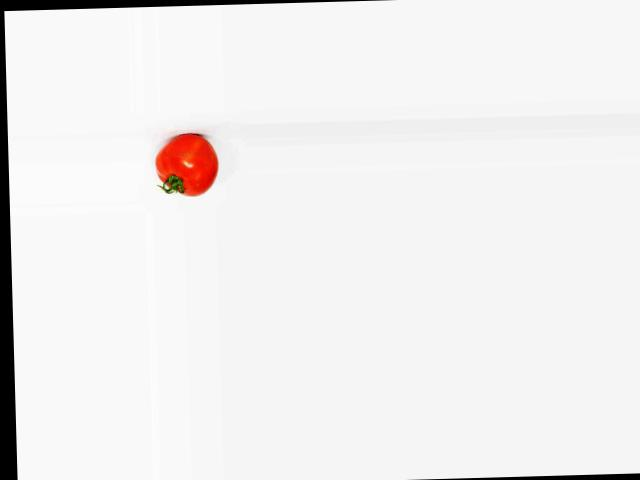tomato: (155, 132, 219, 198)
